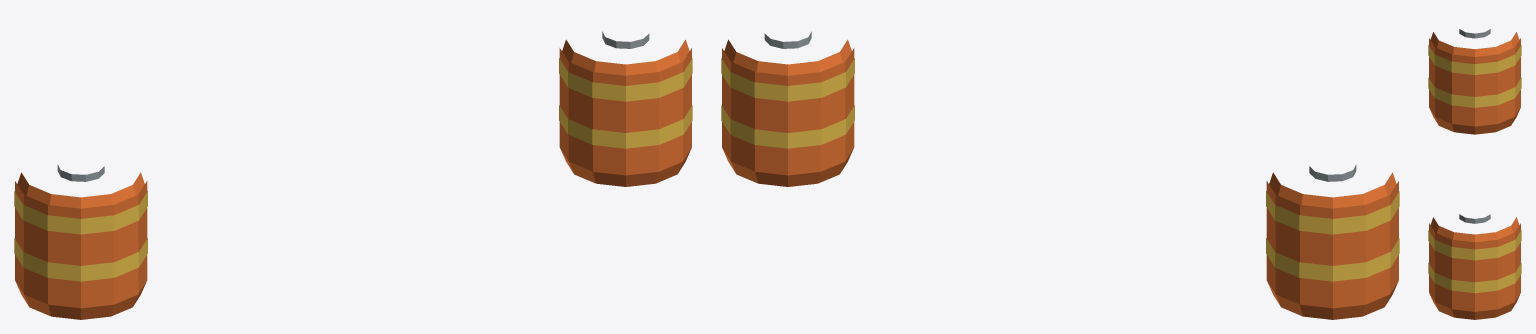
The model's file is track-barrels.glb.
3 views of the same model, side by side, from view 1: azimuth 30°, elevation 25°; view 2: azimuth 150°, elevation 25°; view 3: azimuth 270°, elevation 25° (orthographic). The views are drawn at different scales.
Visible parts, largest first — view 1: track-barrels-orange, track-barrels-yellow, track-barrels-metal; view 2: track-barrels-orange, track-barrels-yellow, track-barrels-metal; view 3: track-barrels-orange, track-barrels-yellow, track-barrels-metal.
Part boxes in pixels (x1,y1,x2,y2): track-barrels-orange: (15, 39, 691, 319); track-barrels-yellow: (14, 58, 692, 281); track-barrels-metal: (57, 31, 649, 181); track-barrels-orange: (722, 39, 1398, 319); track-barrels-yellow: (721, 58, 1399, 281); track-barrels-metal: (764, 31, 1356, 181); track-barrels-orange: (1429, 32, 1520, 319); track-barrels-yellow: (1428, 45, 1521, 293); track-barrels-metal: (1459, 29, 1490, 223).
Bounding box in the file's own units: 4.85 × 0.91 × 0.85.
